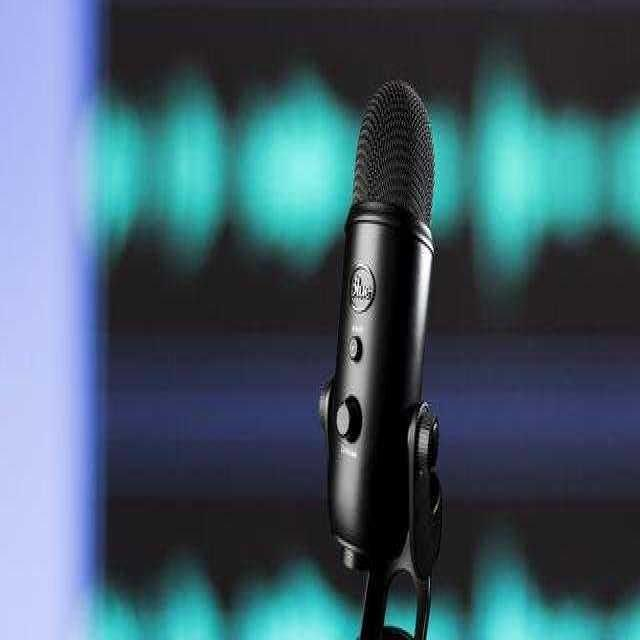microphone: (326, 78, 436, 578)
